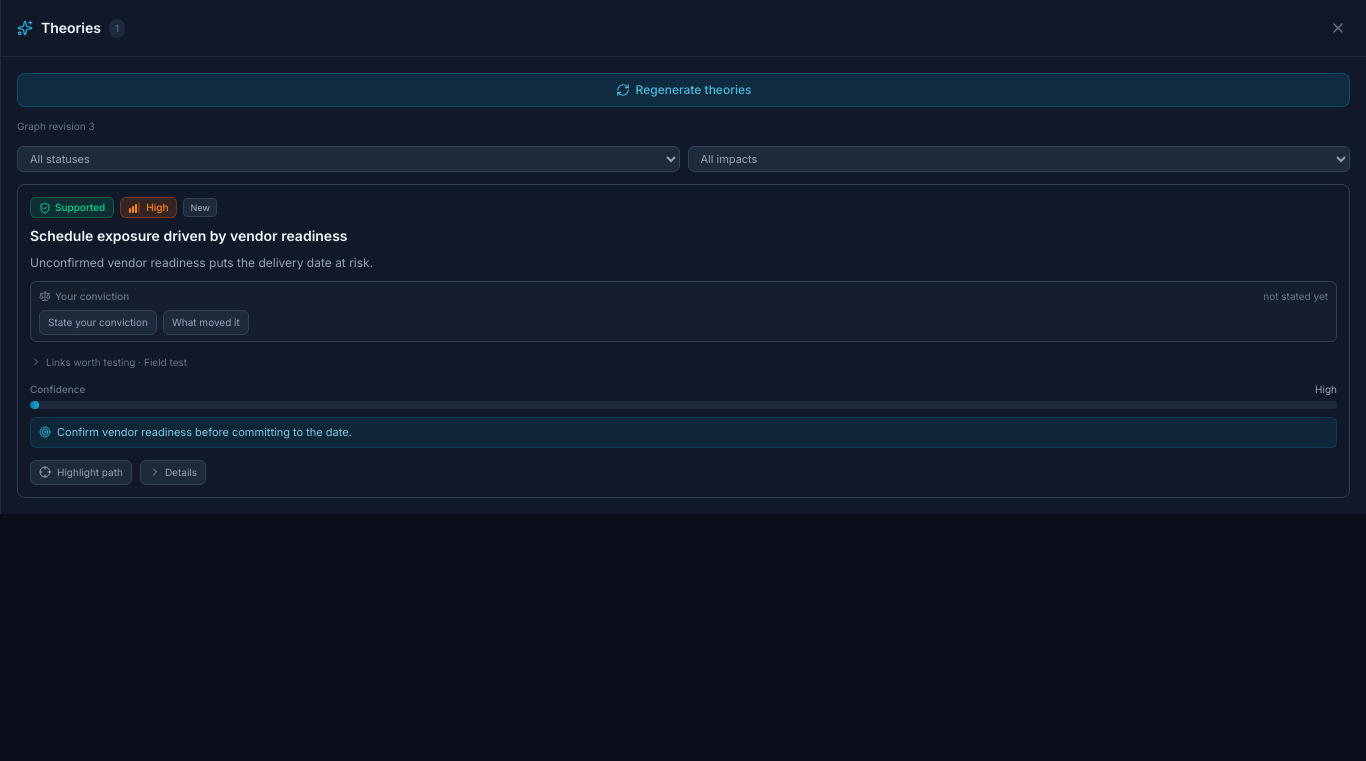
Theory panel: objections › shows objections with their kind and severity band
Click the button "Details" at (173, 472), box [140,460,206,485]
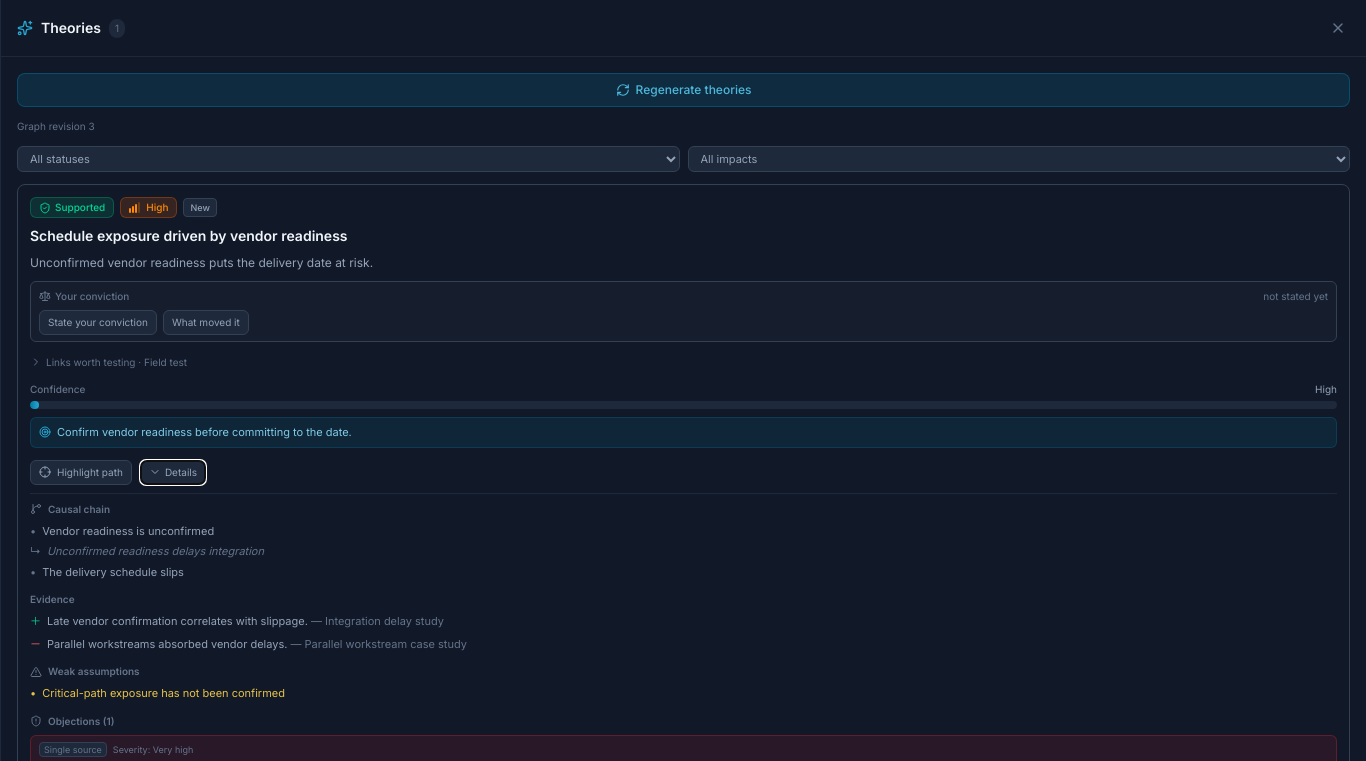
Check: the text "Single source" is shown, box [39,742,107,757]
Check: the text "Severity: Very high" is shown, box [113,743,193,756]
